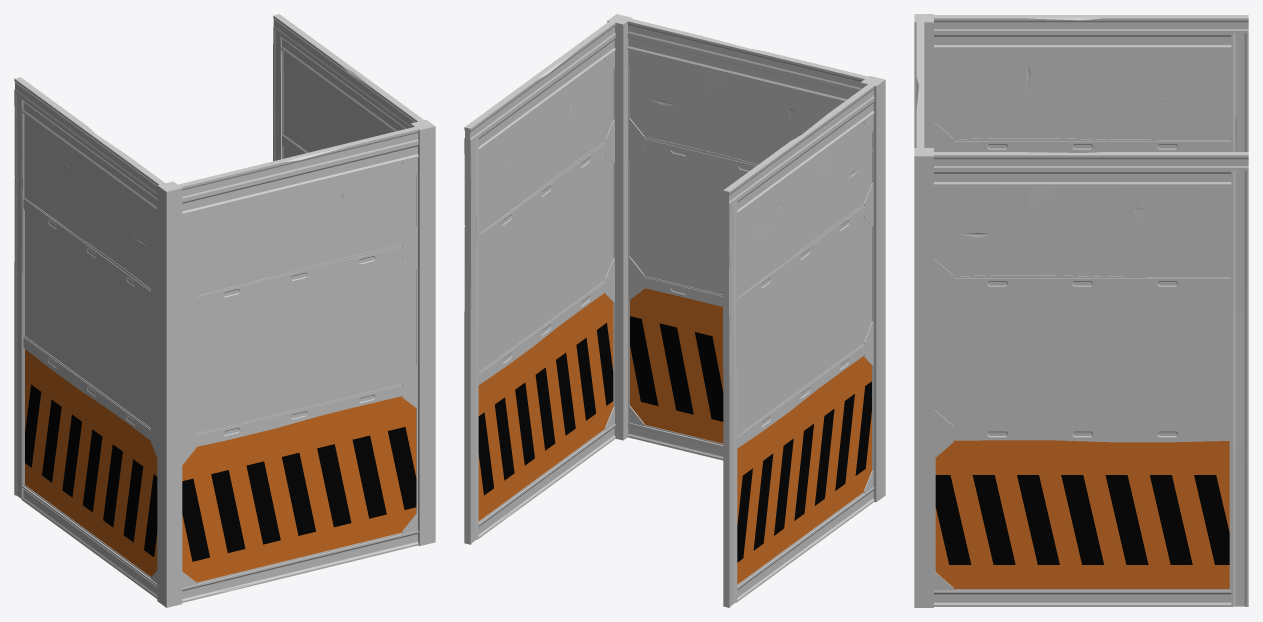
File: SM_Wall_Angle_04.glb
The picture shows the model from 3 angles, left to right: view 1: azimuth 30°, elevation 25°; view 2: azimuth 150°, elevation 25°; view 3: azimuth 270°, elevation 25°; orthographic projection. The views are drawn at different scales.
Parts seen in each view (by area): view 1: SM_Wall_Angle_04; view 2: SM_Wall_Angle_04; view 3: SM_Wall_Angle_04.
Boxes of the visible parts, x1,y1,x2,y2 form: SM_Wall_Angle_04: (14,14,435,607); SM_Wall_Angle_04: (464,14,885,607); SM_Wall_Angle_04: (914,14,1248,607).
Bounding box in the file's own units: 2.03 × 3 × 2.01.
